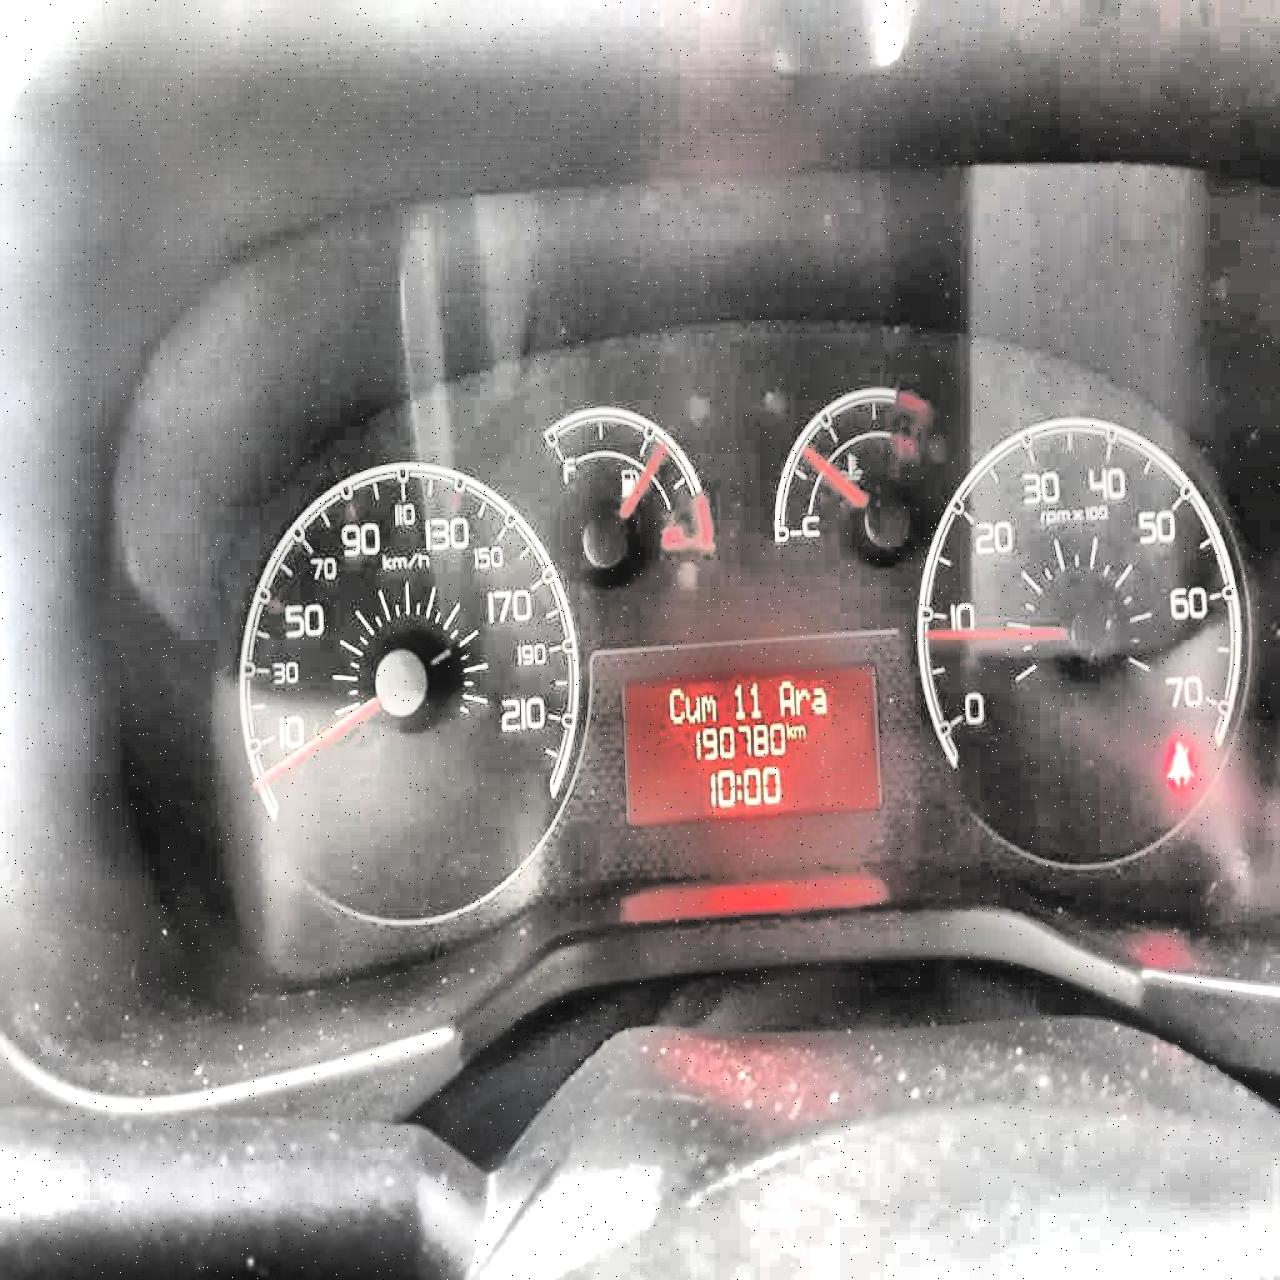0: (715, 767, 735, 809), (761, 764, 781, 803), (741, 765, 760, 805), (717, 723, 735, 758), (769, 722, 783, 756)
1: (749, 679, 763, 720), (733, 680, 747, 720), (692, 727, 701, 761), (707, 770, 715, 809)
7: (737, 723, 751, 757)
8: (753, 722, 768, 756)
9: (700, 726, 717, 760)
X: (777, 679, 794, 715), (668, 685, 683, 723), (700, 693, 716, 722), (810, 685, 826, 713), (685, 693, 700, 722), (794, 687, 809, 715), (794, 723, 805, 738), (735, 774, 741, 799), (785, 720, 792, 738)
odometer: (620, 659, 885, 826)
